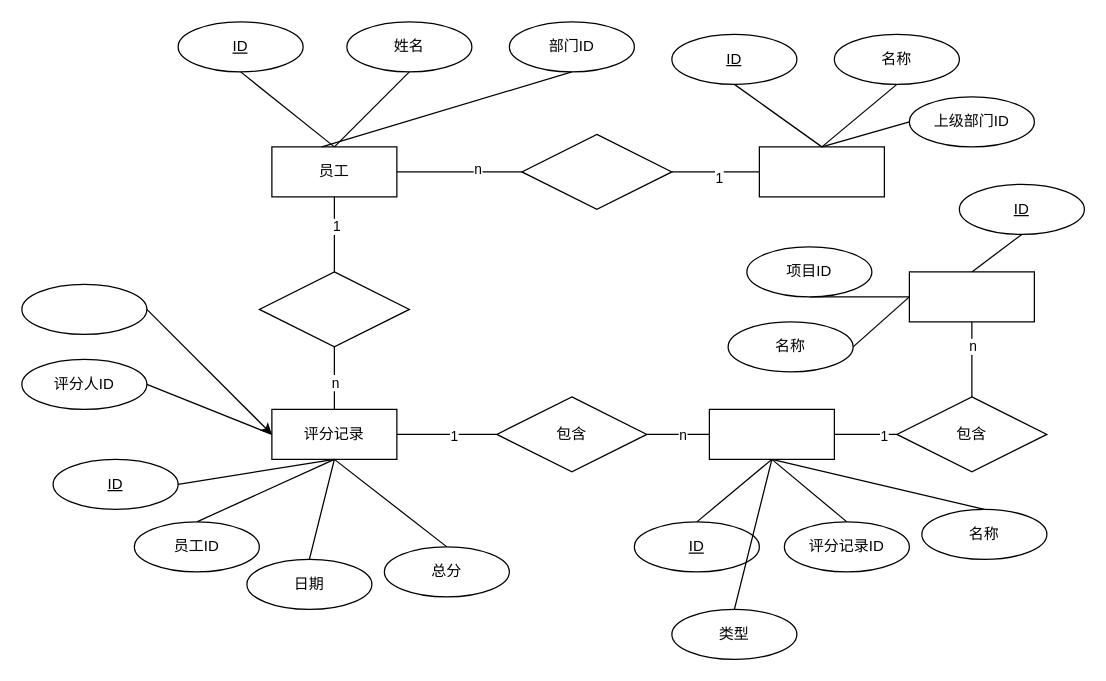
Image size: 1106x681. Some labels were removed from this diagram. Here are the shapes that lost their labels. From the top down, the centre of each, then its label:
the point at 596,171: 属于
the point at 821,171: 部门
the point at 84,308: 权重
the point at 333,309: 拥有
the point at 971,296: 考核指标
the point at 771,433: 考核项目
